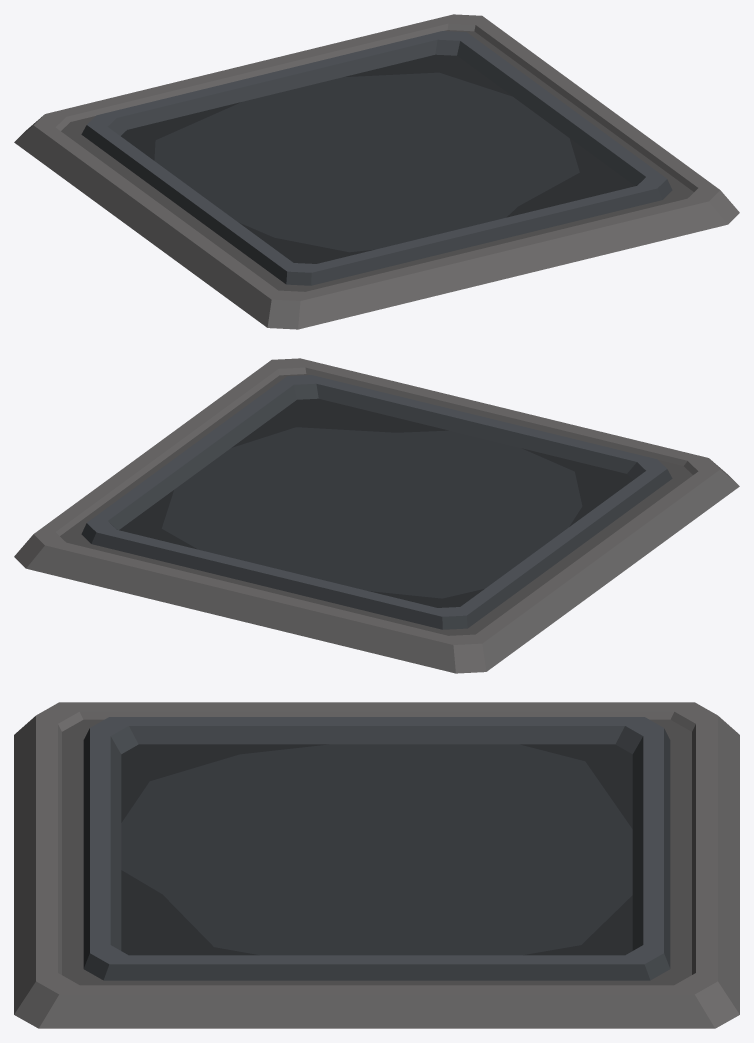
Rendered from SM_Env_Ground_Manhole_01.fbx.
The picture shows the model from 3 angles, top to bottom: view 1: azimuth 30°, elevation 25°; view 2: azimuth 150°, elevation 25°; view 3: azimuth 270°, elevation 25°; orthographic projection. The views are drawn at different scales.
Parts seen in each view (by area): view 1: SM_Env_Ground_Manhole_01; view 2: SM_Env_Ground_Manhole_01; view 3: SM_Env_Ground_Manhole_01.
Boxes of the visible parts, x1,y1,x2,y2 form: SM_Env_Ground_Manhole_01: (14,14,739,329); SM_Env_Ground_Manhole_01: (14,358,739,673); SM_Env_Ground_Manhole_01: (14,702,739,1028).
Size of the model in its own units: 225 by 11.69 by 224.
